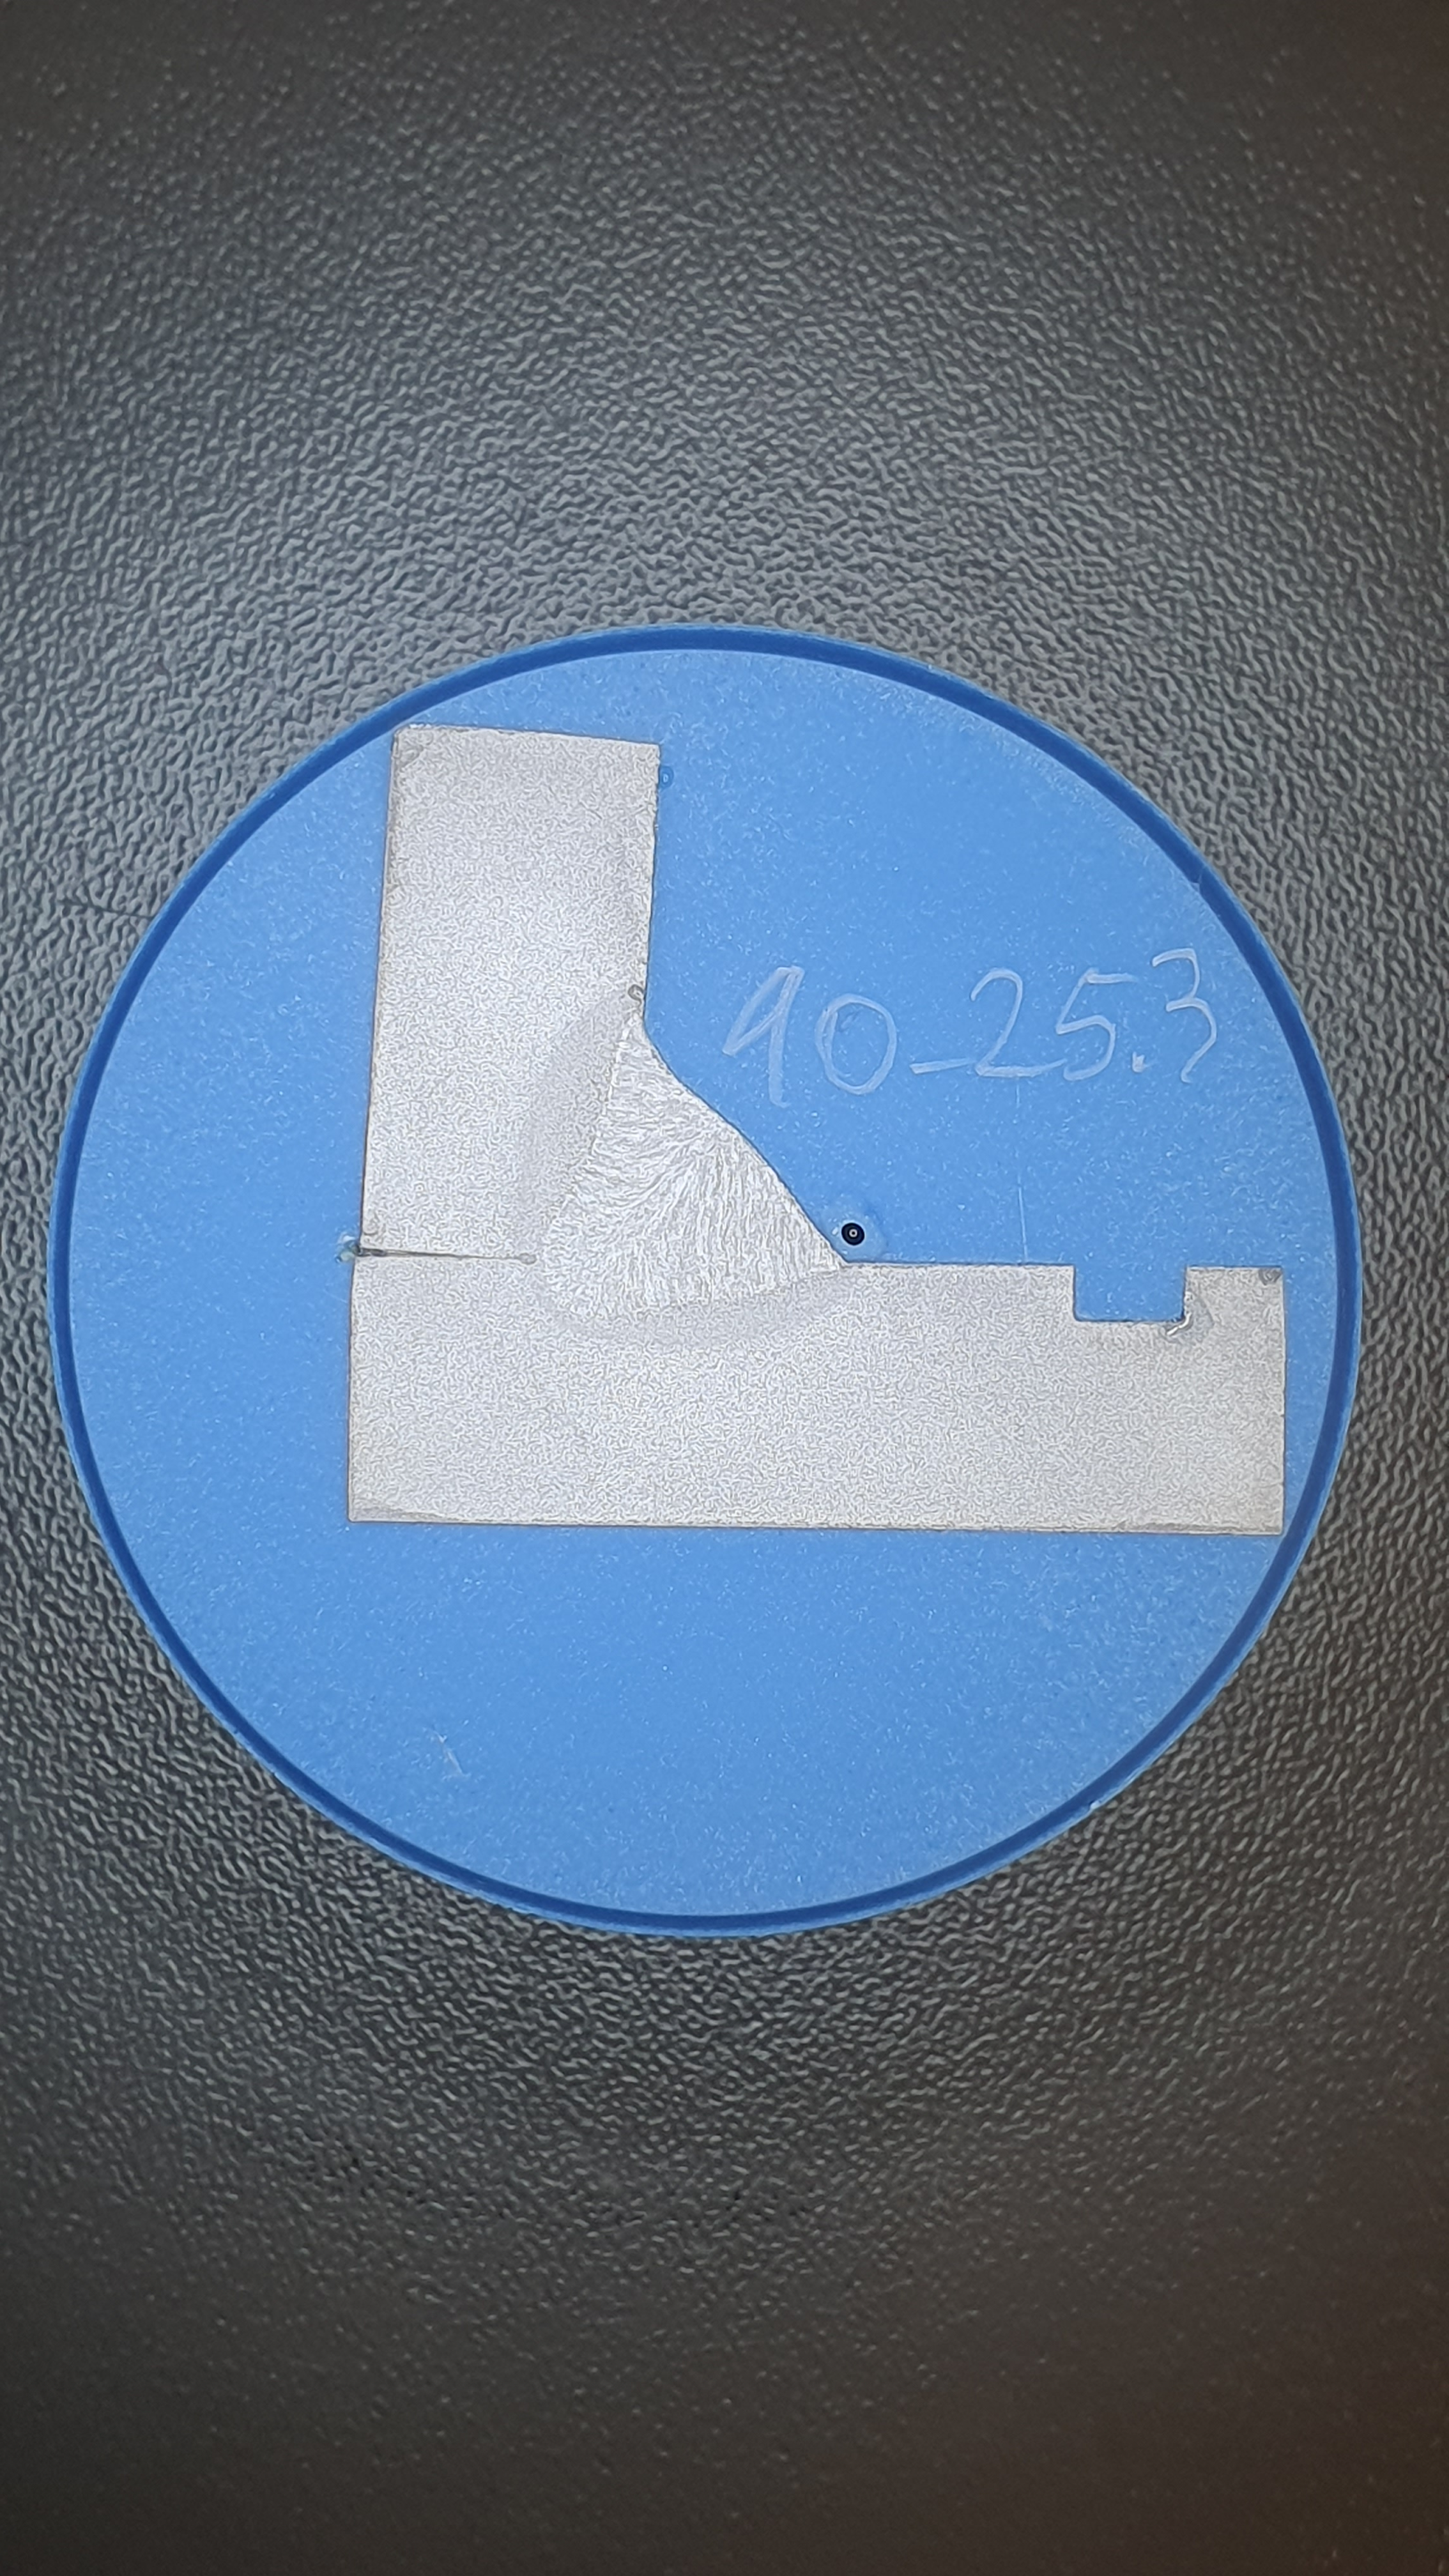Fusion: (545, 1015, 841, 1320)
Hintergrund: (70, 648, 1337, 1914)
Metall: (348, 723, 1286, 1535)
Nebenbereich: (510, 973, 878, 1350)
